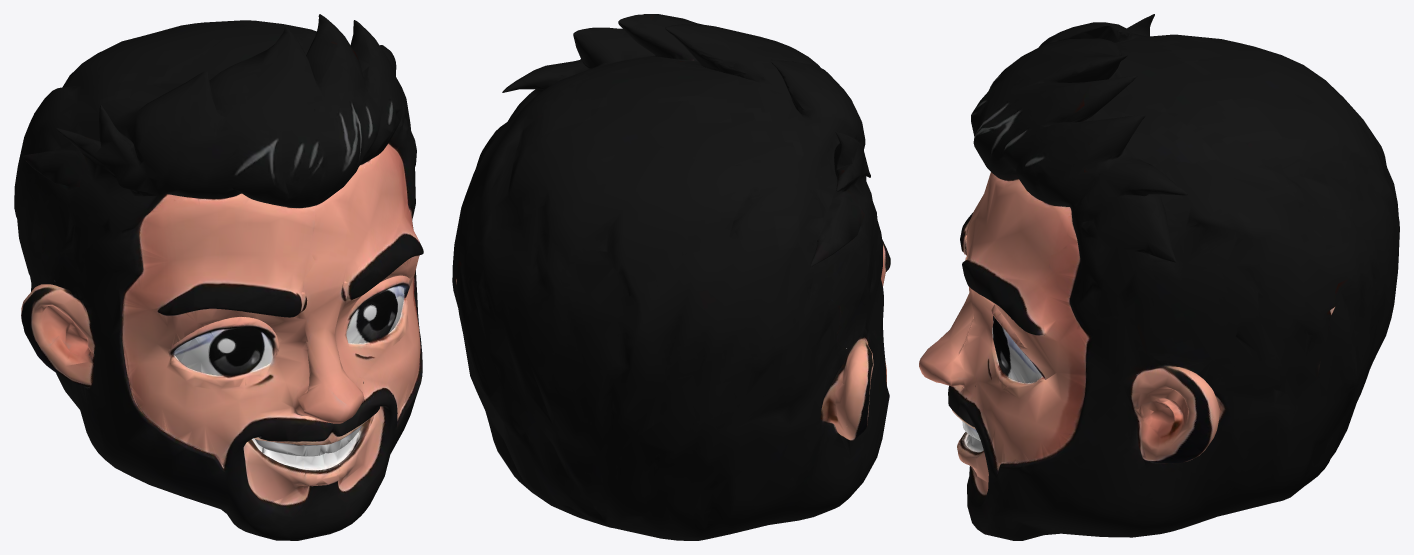
Rendered from filipino.glb.
The picture shows the model from 3 angles, left to right: view 1: azimuth 30°, elevation 25°; view 2: azimuth 150°, elevation 25°; view 3: azimuth 270°, elevation 25°; orthographic projection. The views are drawn at different scales.
Parts seen in each view (by area): view 1: model; view 2: model; view 3: model.
Boxes of the visible parts, left/top/right/bottom form: model: left=14, top=14, right=423, bottom=540; model: left=452, top=14, right=890, bottom=540; model: left=919, top=14, right=1399, bottom=540.
Bounding box in the file's own units: 0.8761 × 1 × 0.8995.
1 material, 1 textured.
